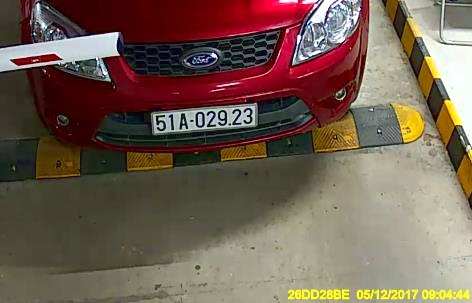plate: (151, 103, 258, 134)
